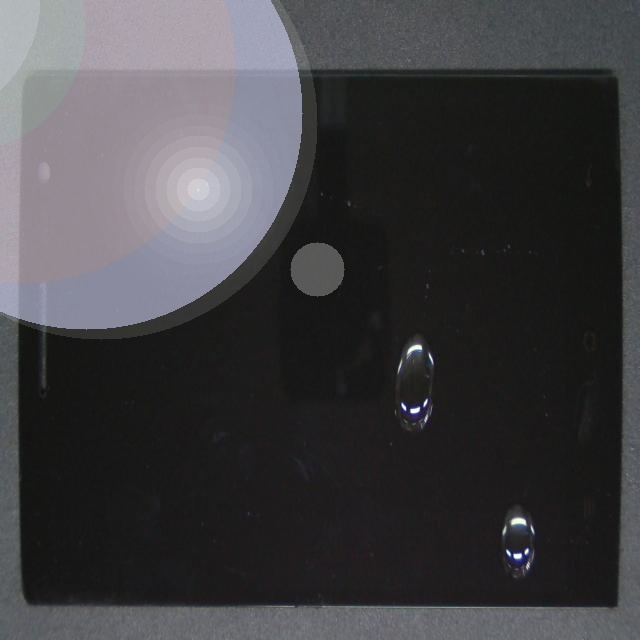oil: (244, 252, 640, 640), (218, 133, 603, 530)
